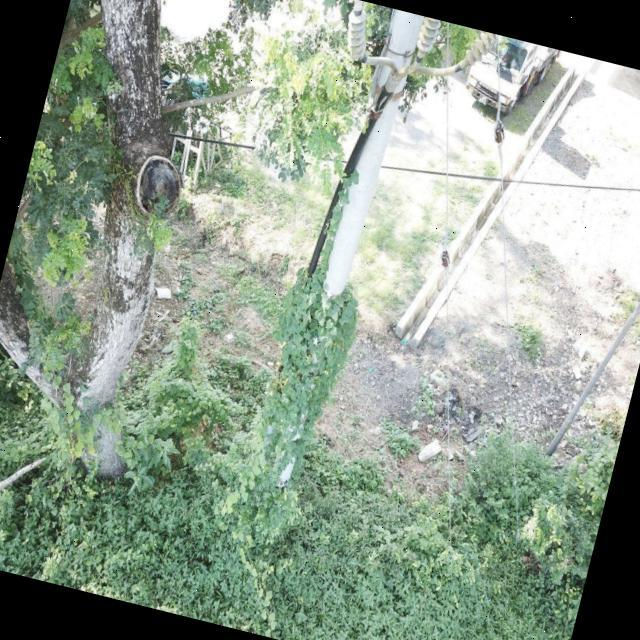critical vegetation: (232, 150, 394, 496)
